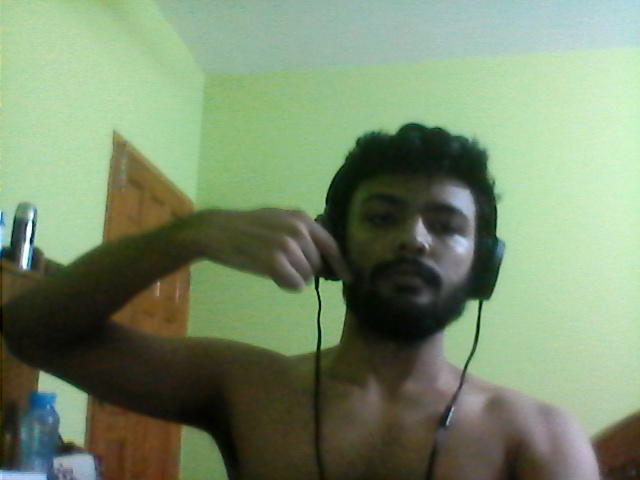I: (189, 186, 354, 334)
